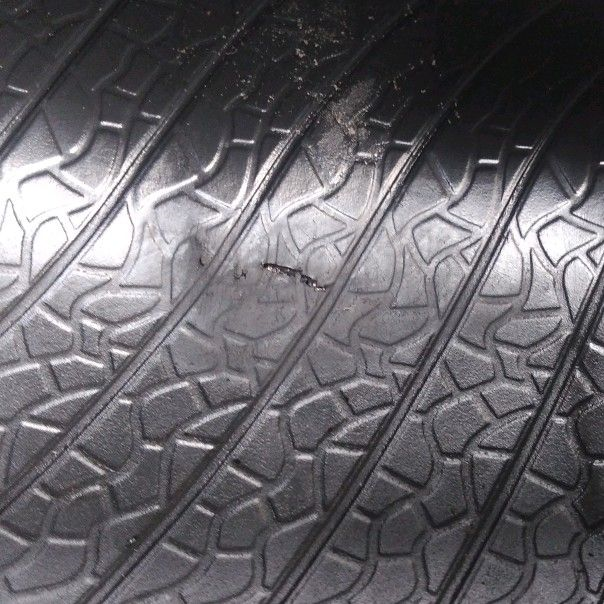cut: (181, 239, 338, 300)
